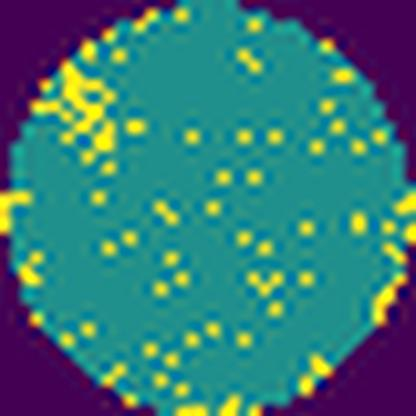Edge-Loc: (60, 59, 115, 145)
